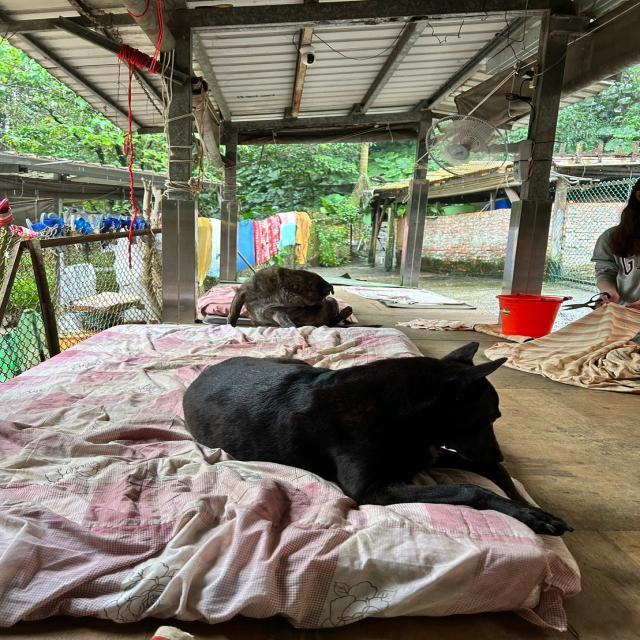adult_dog: (181, 340, 573, 538), (228, 263, 357, 329)
